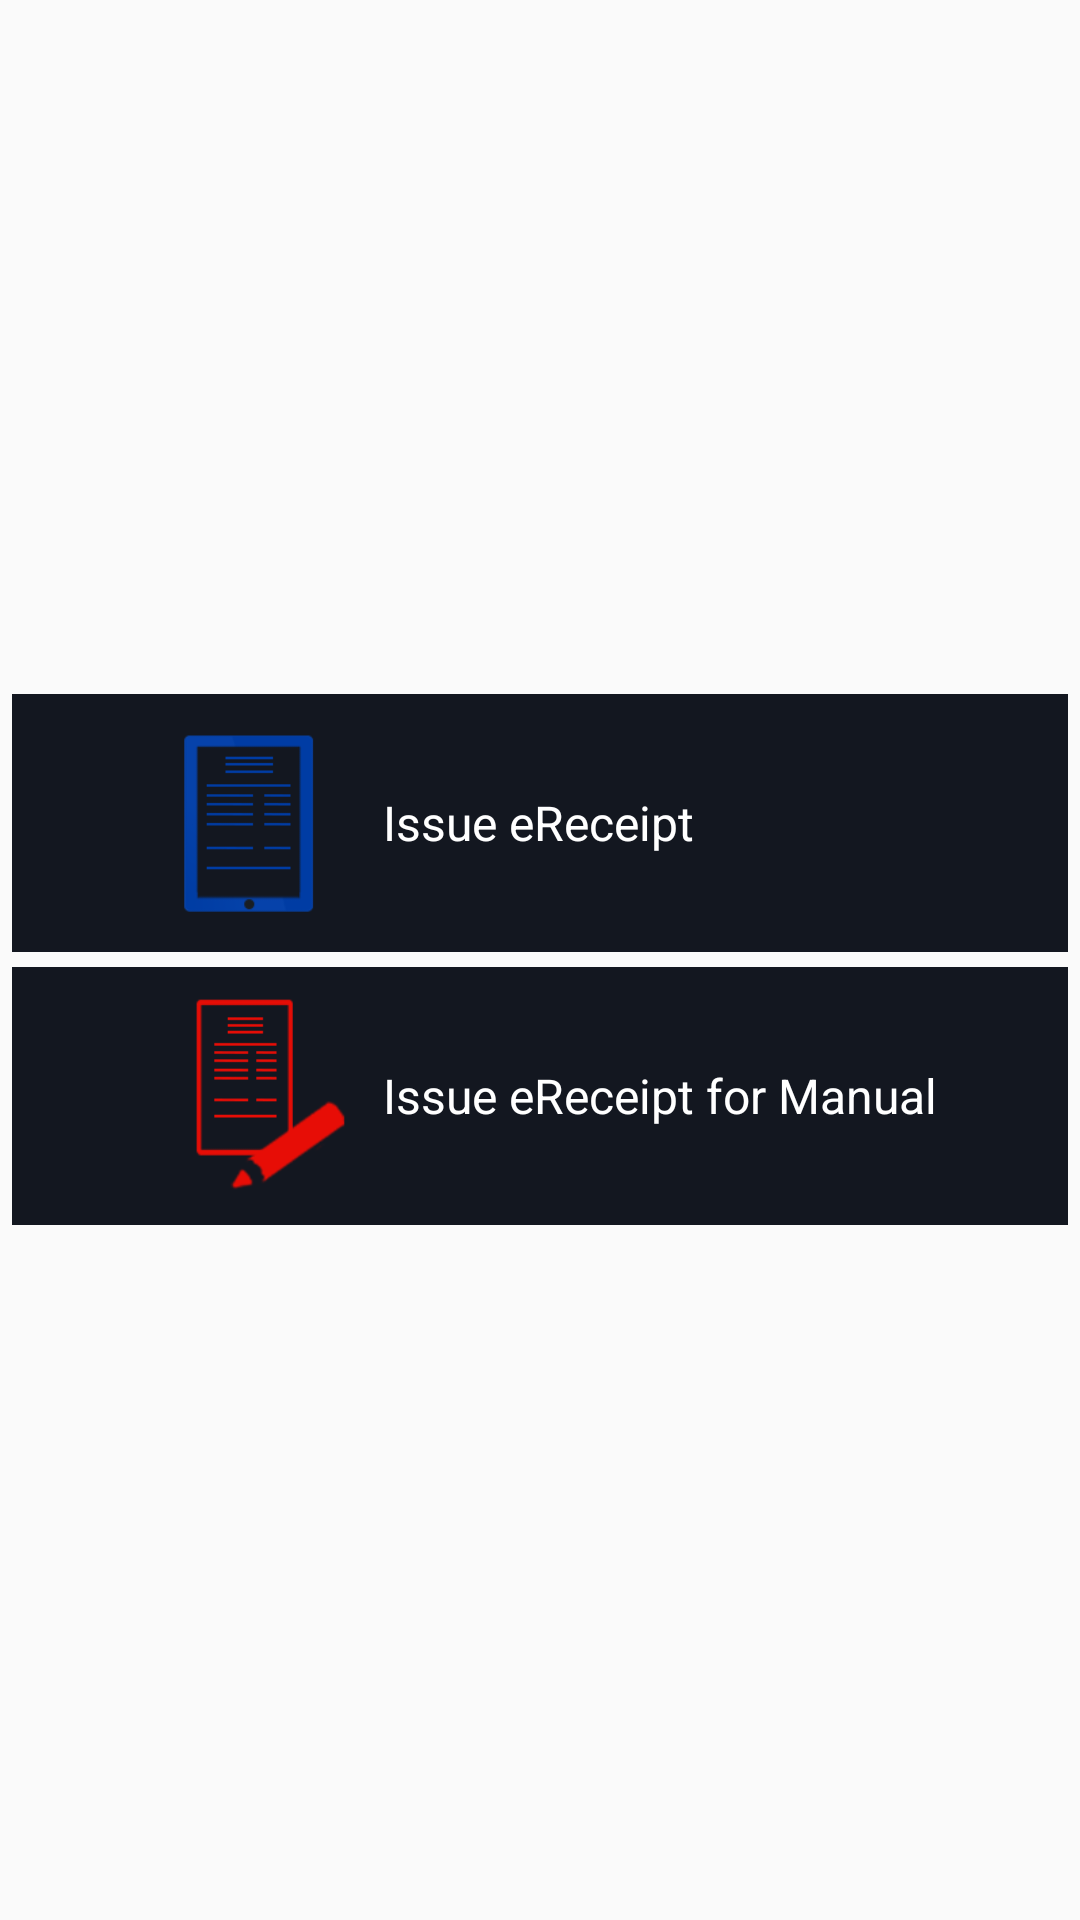

Named icons in this screenshot (1080x1920) and their bounding boxes, (left=x1, top=y1, right=x2, bottom=y2):
erecipt: (left=184, top=735, right=313, bottom=912)
